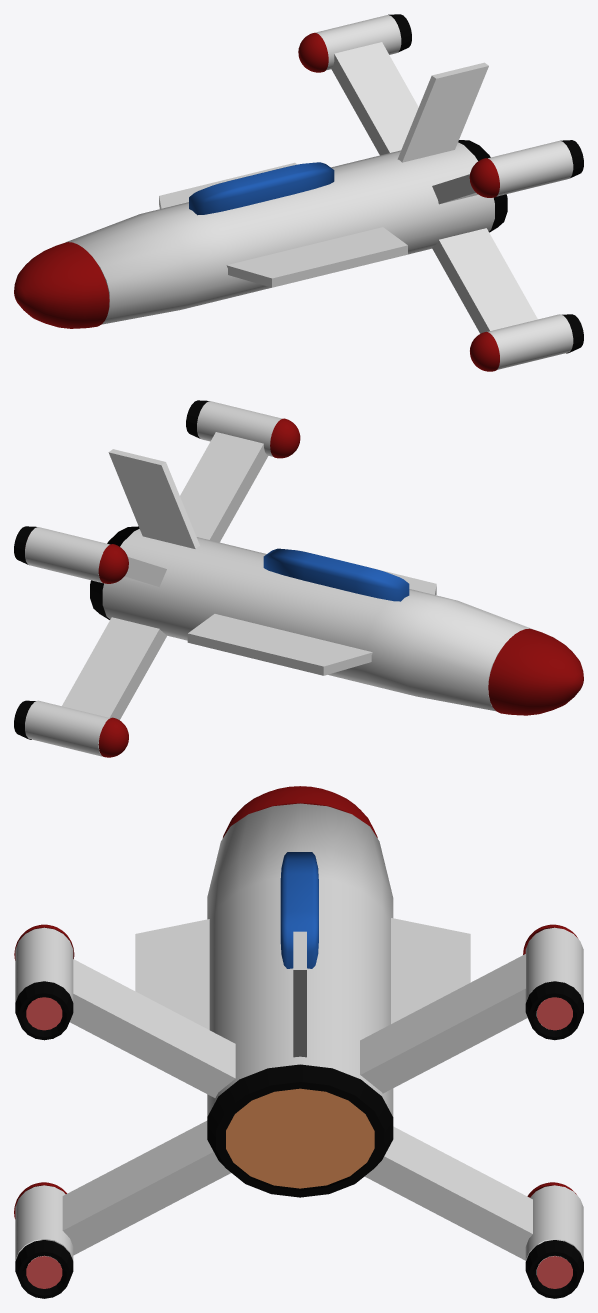
The model's file is P-rocket.obj.
3 views of the same model, one above another, from view 1: azimuth 30°, elevation 25°; view 2: azimuth 150°, elevation 25°; view 3: azimuth 270°, elevation 25° (orthographic). The views are drawn at different scales.
Parts seen in each view (by area): view 1: Cylinder002, Box002, Sphere001, Box004, Cylinder004, Box003, ChamferBox001, Cylinder005, Sphere002, Cylinder006, Sphere003, Box001 (+1 smaller); view 2: Cylinder002, Box001, Sphere001, Box004, Cylinder004, Box003, ChamferBox001, Cylinder005, Sphere002, Cylinder006, Sphere003, Box002 (+1 smaller); view 3: Cylinder002, Box002, Box001, Box004, Cylinder001, Cylinder003, Cylinder006, Cylinder004, Cylinder005, ChamferBox001, Cylinder007, Sphere001 (+1 smaller).
Boxes of the visible parts, box(x1,y1,x2,y2) form: Cylinder002: box(65, 142, 494, 324); Box002: box(331, 42, 537, 333); Sphere001: box(14, 242, 109, 328); Box004: box(159, 162, 407, 287); Cylinder004: box(315, 15, 573, 196); Box003: box(397, 62, 488, 162); ChamferBox001: box(189, 162, 334, 215); Cylinder005: box(487, 314, 573, 369); Sphere002: box(298, 32, 499, 197); Cylinder006: box(388, 14, 583, 353); Sphere003: box(470, 332, 499, 371); Box001: box(432, 174, 478, 204); Cylinder002: box(102, 529, 532, 711); Box001: box(62, 432, 268, 720); Sphere001: box(488, 628, 583, 715); Box004: box(187, 551, 436, 675); Cylinder004: box(25, 401, 281, 583); Box003: box(108, 449, 199, 548); ChamferBox001: box(263, 548, 409, 601); Cylinder005: box(25, 700, 110, 757); Sphere002: box(98, 418, 300, 583); Cylinder006: box(14, 400, 209, 739); Sphere003: box(98, 717, 128, 757); Box002: box(123, 557, 166, 587); Cylinder002: box(207, 803, 393, 1116); Box002: box(41, 954, 541, 1261); Box001: box(70, 959, 538, 1260); Box004: box(135, 918, 470, 1029); Cylinder001: box(226, 1088, 374, 1188); Cylinder003: box(207, 1064, 393, 1197); Cylinder006: box(15, 981, 583, 1298); Cylinder004: box(15, 927, 583, 1028); Cylinder005: box(15, 1185, 583, 1274); ChamferBox001: box(280, 852, 318, 968); Cylinder007: box(26, 997, 572, 1288); Sphere001: box(223, 786, 377, 837).
Size of the model in its own units: 111 by 50.04 by 78.2.
